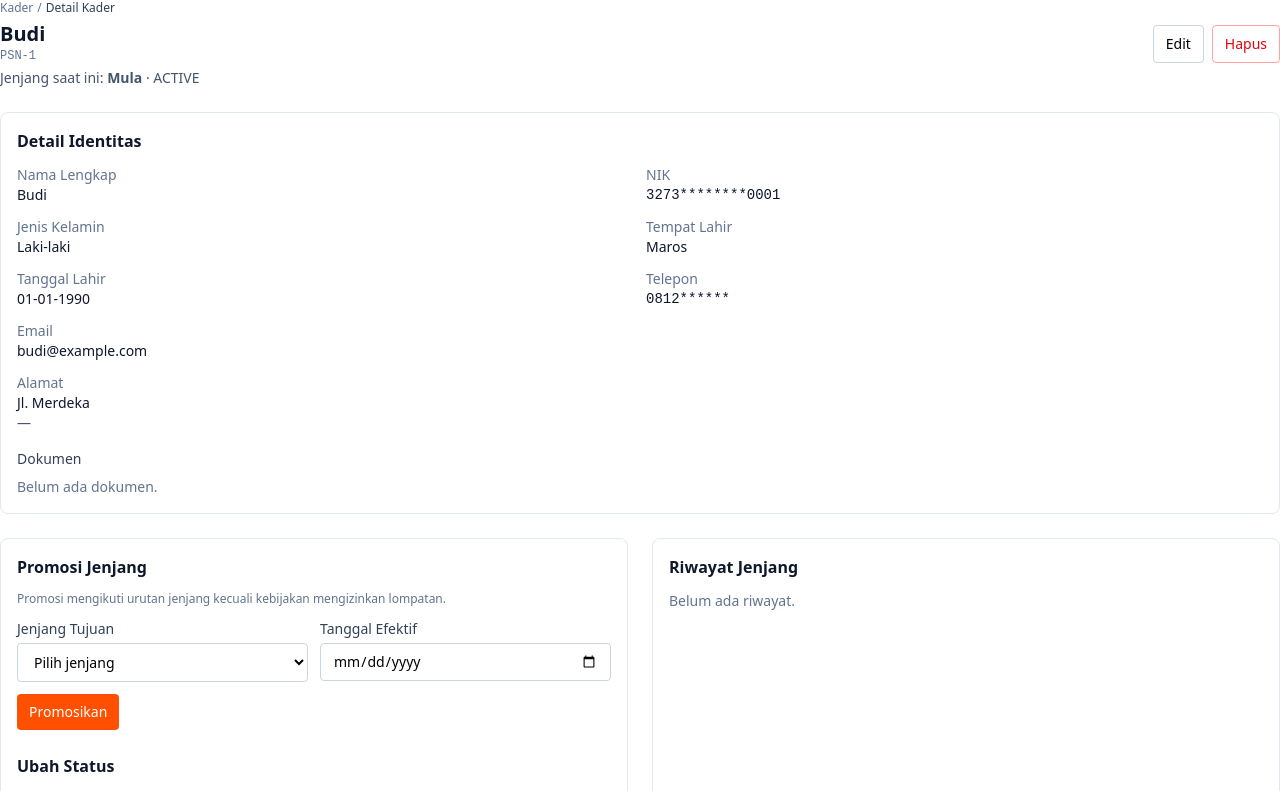
Test: CadreDetailPage › shows the friendly reason when delete is refused
Click the button "Hapus": [1246, 44] box [1212,25,1279,63]
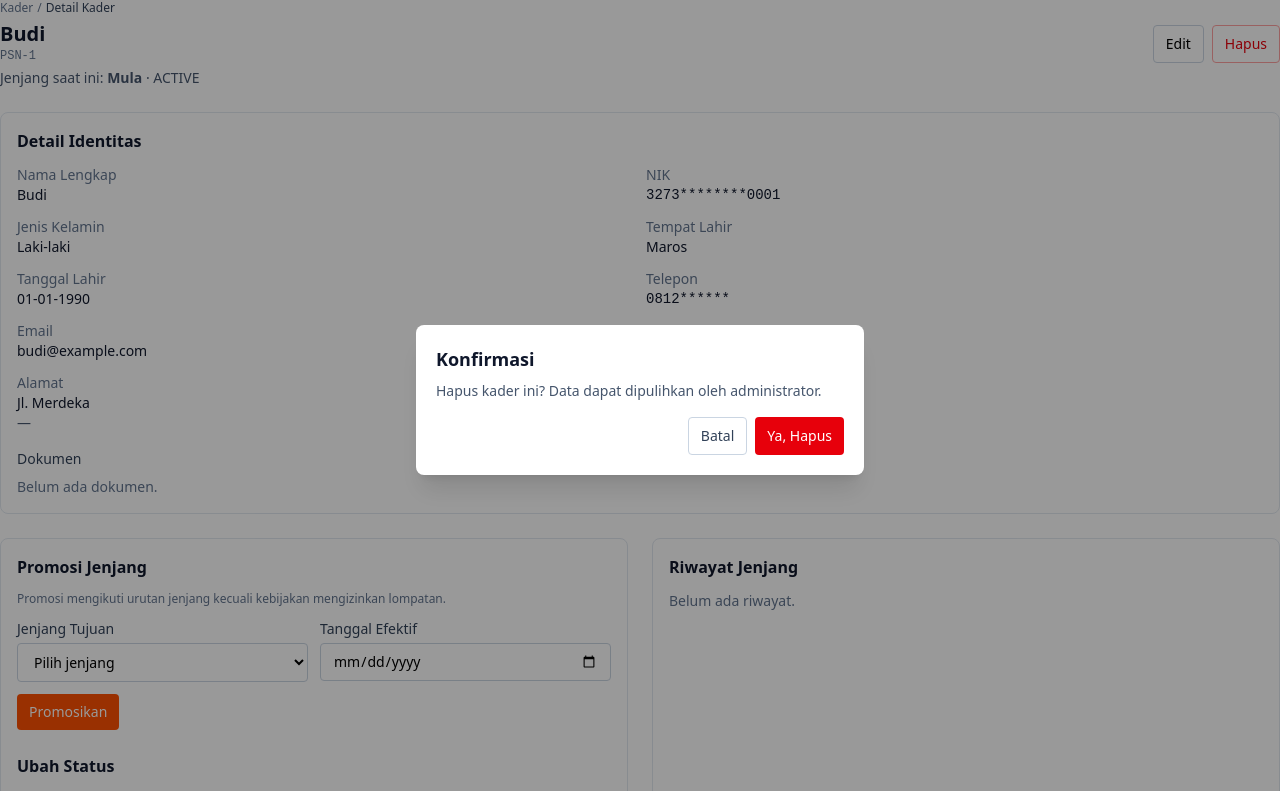
Click the button "Ya, Hapus": [800, 436] box [755,417,844,455]
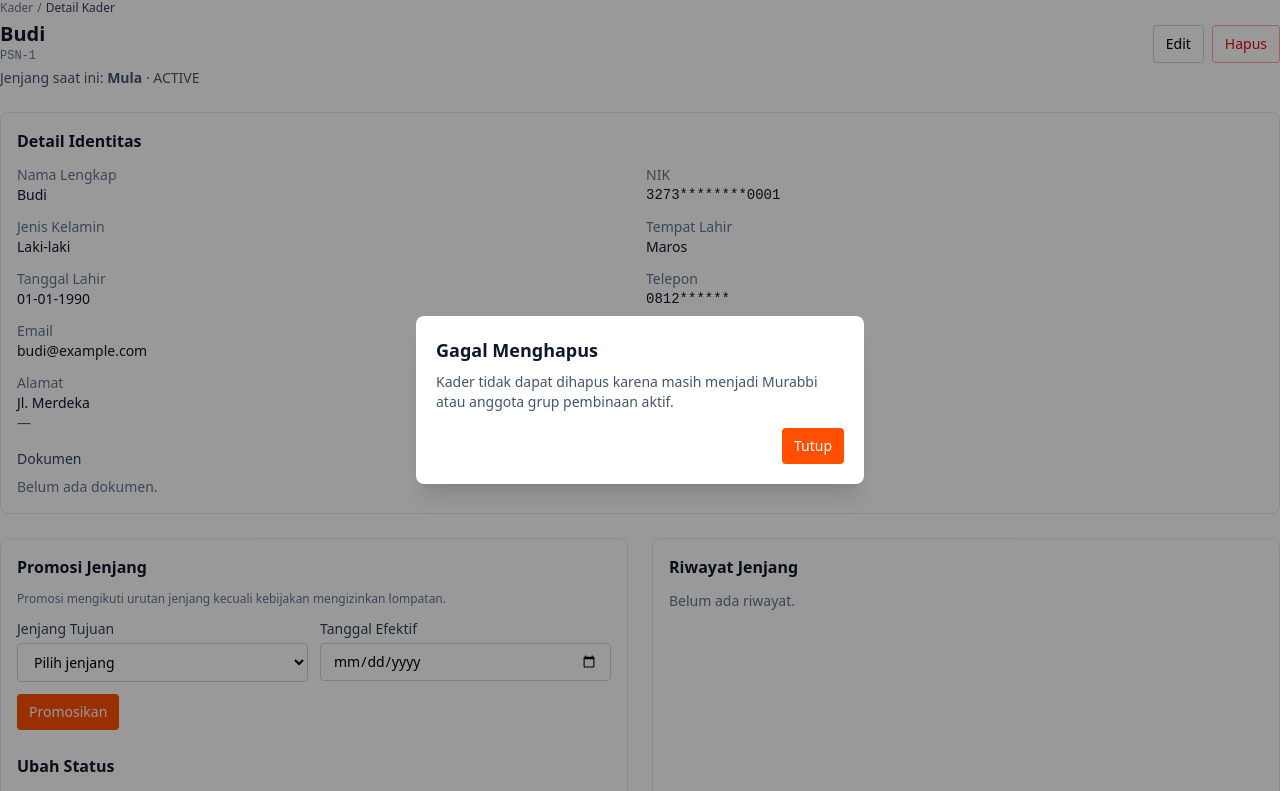
Result: the text "masih menjadi Murabbi atau anggota grup pembinaan aktif" is shown at [436,372,818,411]
